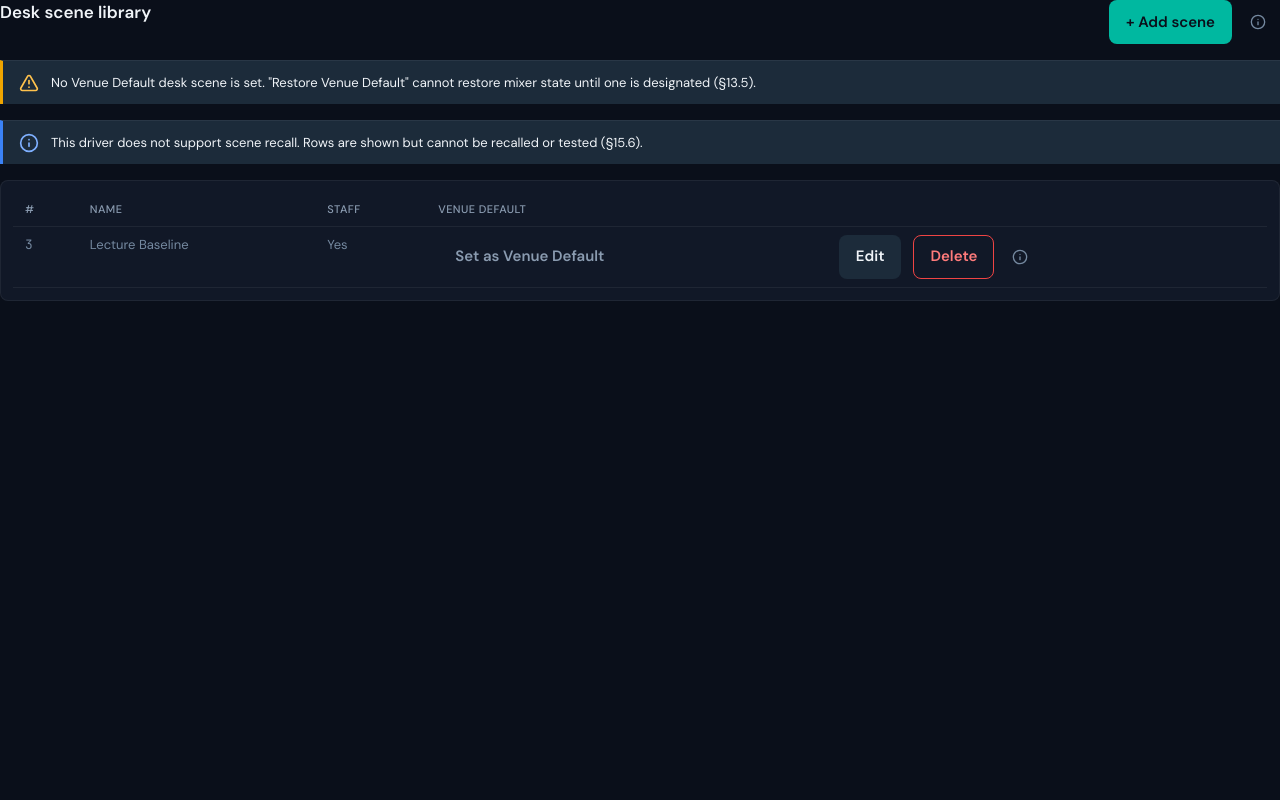
Test case: DeskScenesSection › shows rows disabled, never hidden, when the driver does not support scene recall (§15.6)
Expected: the text "does not support scene recall" is shown, [51,134,643,151]
Expected: the text "Lecture Baseline" is shown, [78,226,315,288]
Step 1. Click the button "Edit" → (870, 256), box [839,234,902,278]
(page scrolled)
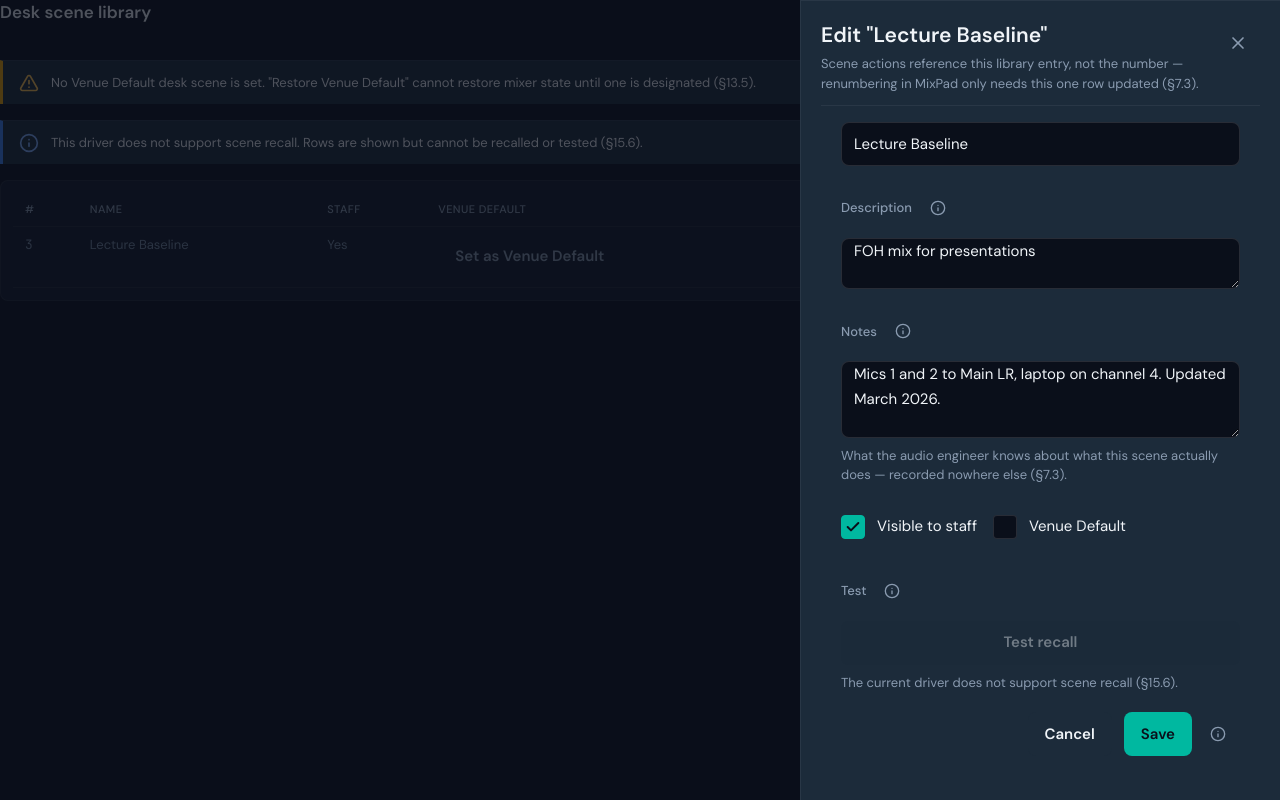
Expected: the button "Test recall" is disabled, [841,621,1240,665]
